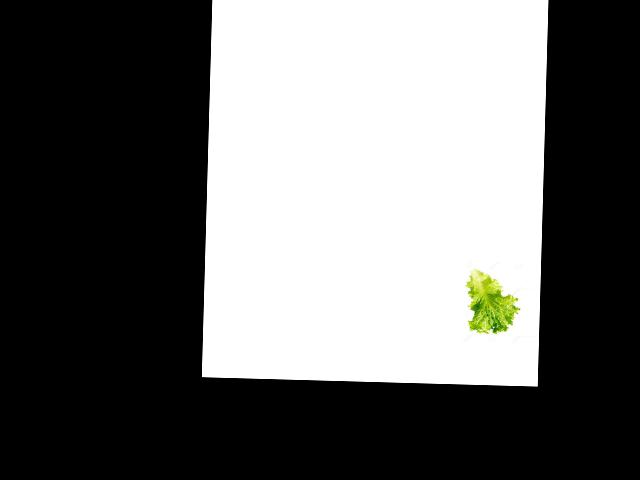lettuce: (467, 268, 520, 335)
